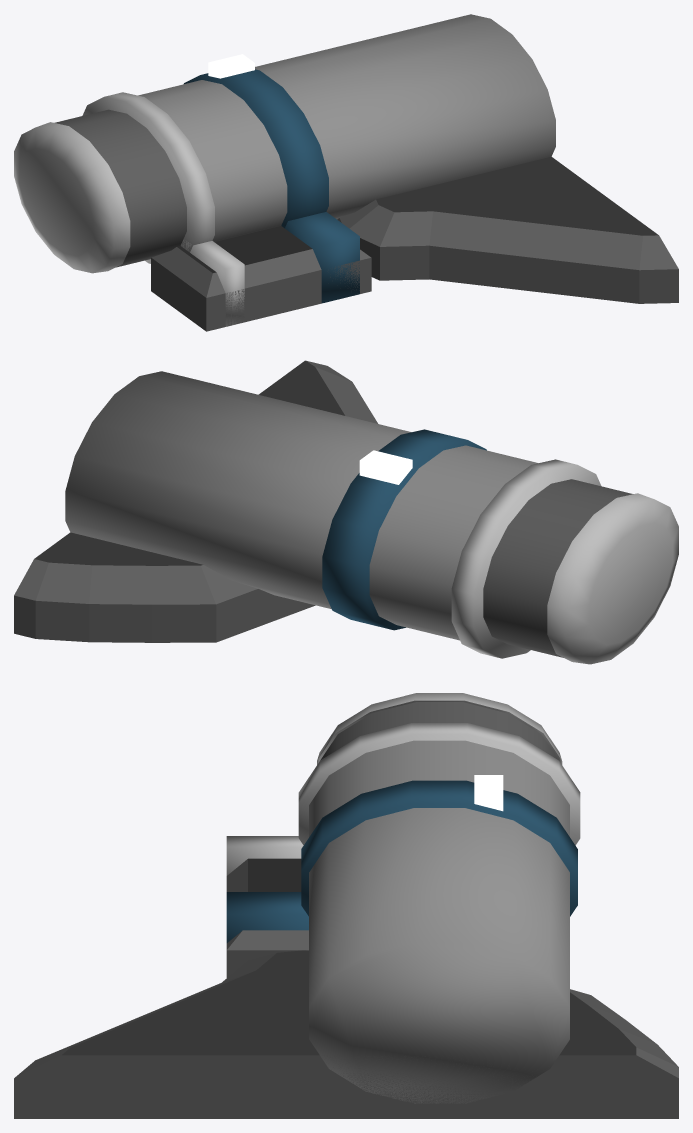
File: newshv-14.glb
3 renders of one model, top to bottom at view 1: azimuth 30°, elevation 25°; view 2: azimuth 150°, elevation 25°; view 3: azimuth 270°, elevation 25°, orthographic. The views are drawn at different scales.
Visible parts, largest first — view 1: newshv-14; view 2: newshv-14; view 3: newshv-14.
Boxes of the visible parts, x1,y1,x2,y2 form: newshv-14: [14, 14, 678, 331]; newshv-14: [14, 360, 678, 664]; newshv-14: [14, 693, 678, 1118].
Size of the model in its own units: 1.93 by 0.6483 by 2.08.
